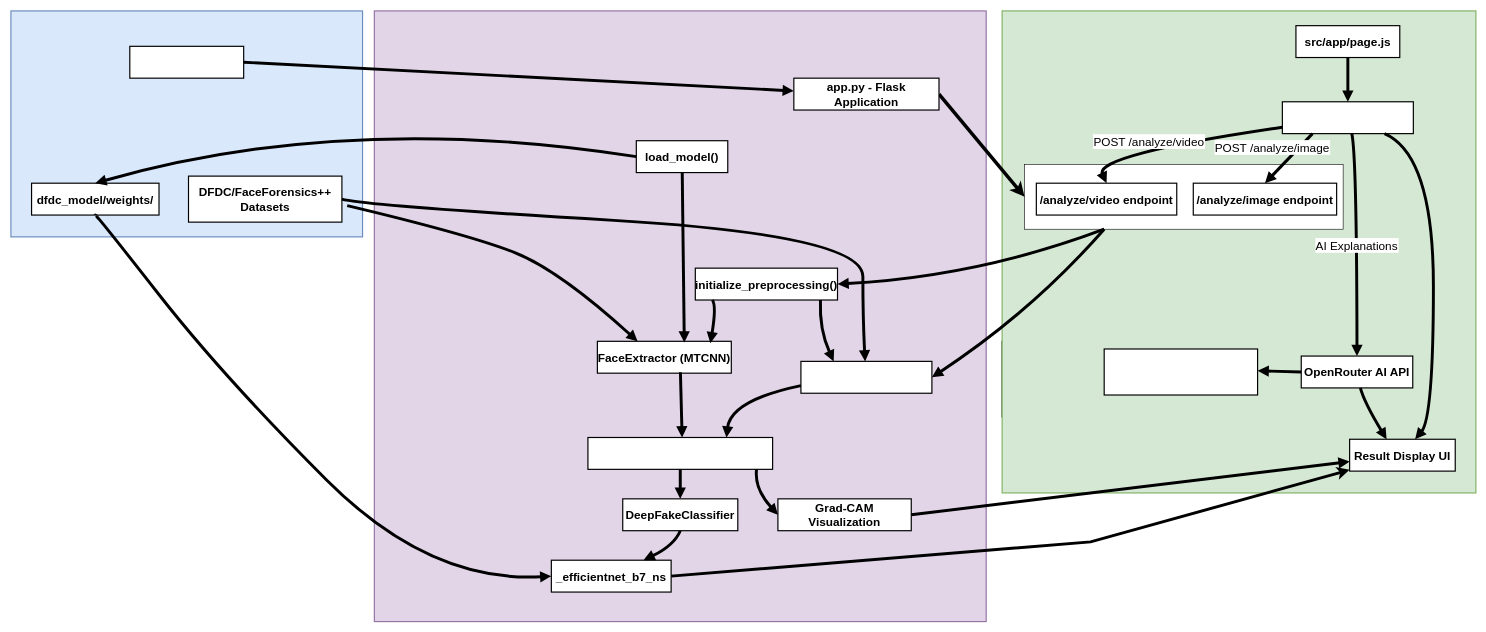
This 1486x632 diagram has some shape labels left out. Here are the shapes that lost their labels. From the top down, the box of each, then its label:
(129, 45, 244, 78): uploads/ directory
(10, 10, 363, 237): Storage
(1281, 101, 1414, 134): UploadBox Component
(1001, 10, 1476, 493): Frontend Layer (Next.js)
(373, 10, 986, 622): Backend Layer (Flask - Port 8000)
(800, 360, 932, 394): VideoReader (OpenCV)
(1103, 348, 1258, 395): meta-llama/llama-3.2-3b-instruct
(587, 437, 773, 470): enhanced_predict_on_image/video
